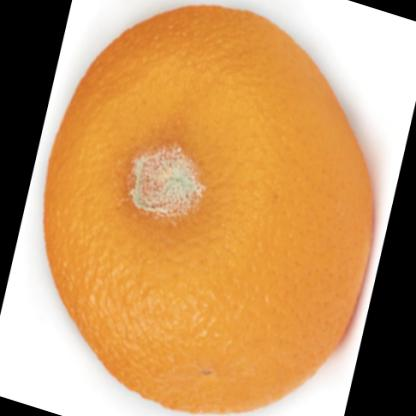rotten: (43, 3, 379, 416)
